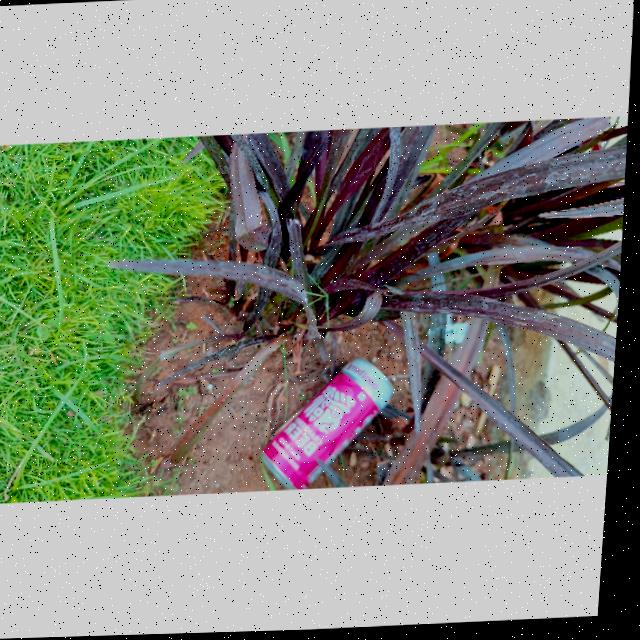Coolberg: (267, 362, 405, 493)
